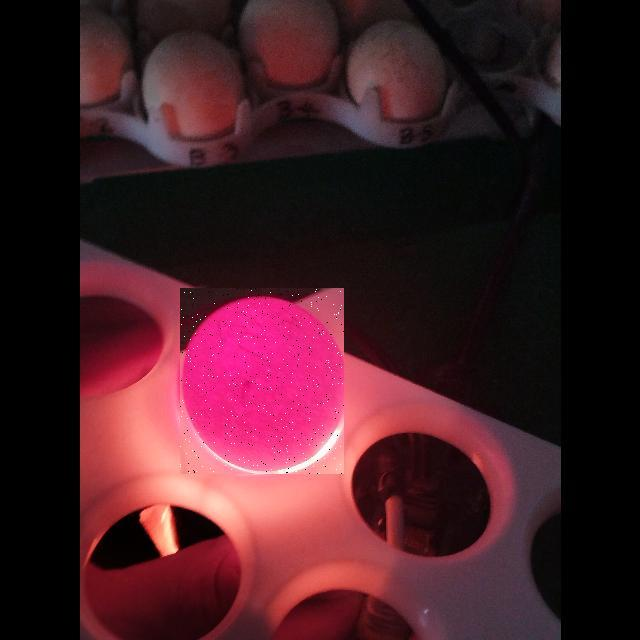Infertile: (180, 288, 344, 474)
